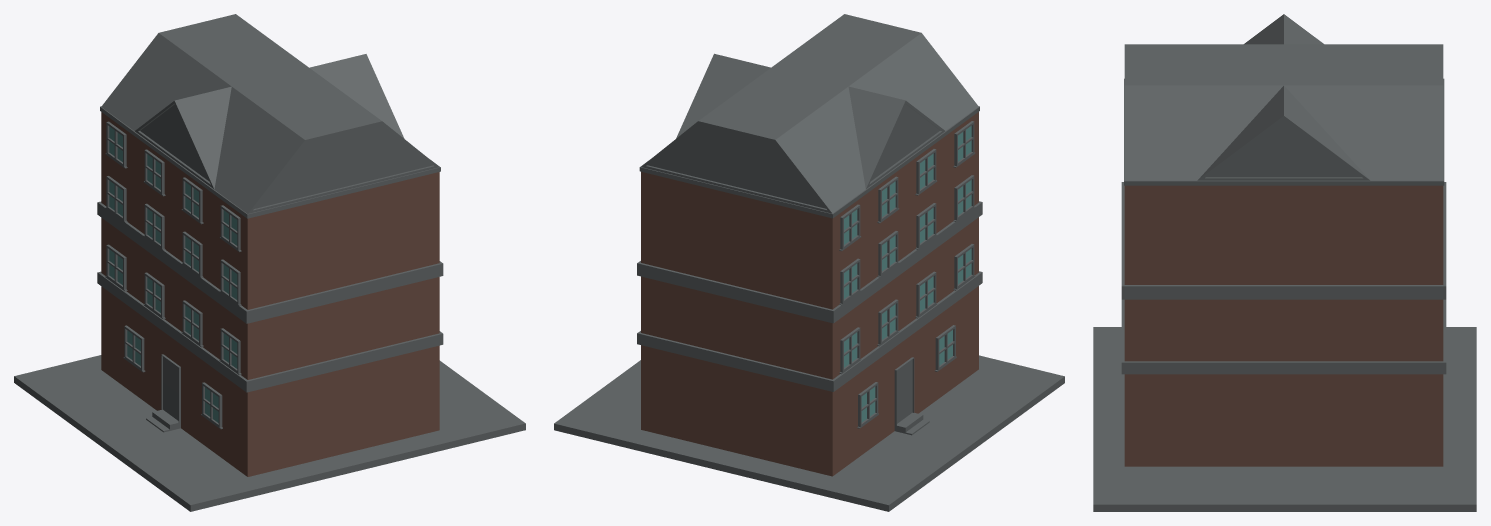
The model's file is edificio1(1).fbx.
The picture shows the model from 3 angles, left to right: view 1: azimuth 30°, elevation 25°; view 2: azimuth 150°, elevation 25°; view 3: azimuth 270°, elevation 25°; orthographic projection. The views are drawn at different scales.
Parts seen in each view (by area): view 1: ventana 3 abajo; view 2: ventana 3 abajo; view 3: ventana 3 abajo.
Boxes of the visible parts, x1=… form: ventana 3 abajo: x1=14, y1=14, x2=525, y2=511; ventana 3 abajo: x1=554, y1=14, x2=1064, y2=511; ventana 3 abajo: x1=1093, y1=14, x2=1476, y2=511.
Bounding box in the file's own units: 706 × 663 × 643.
